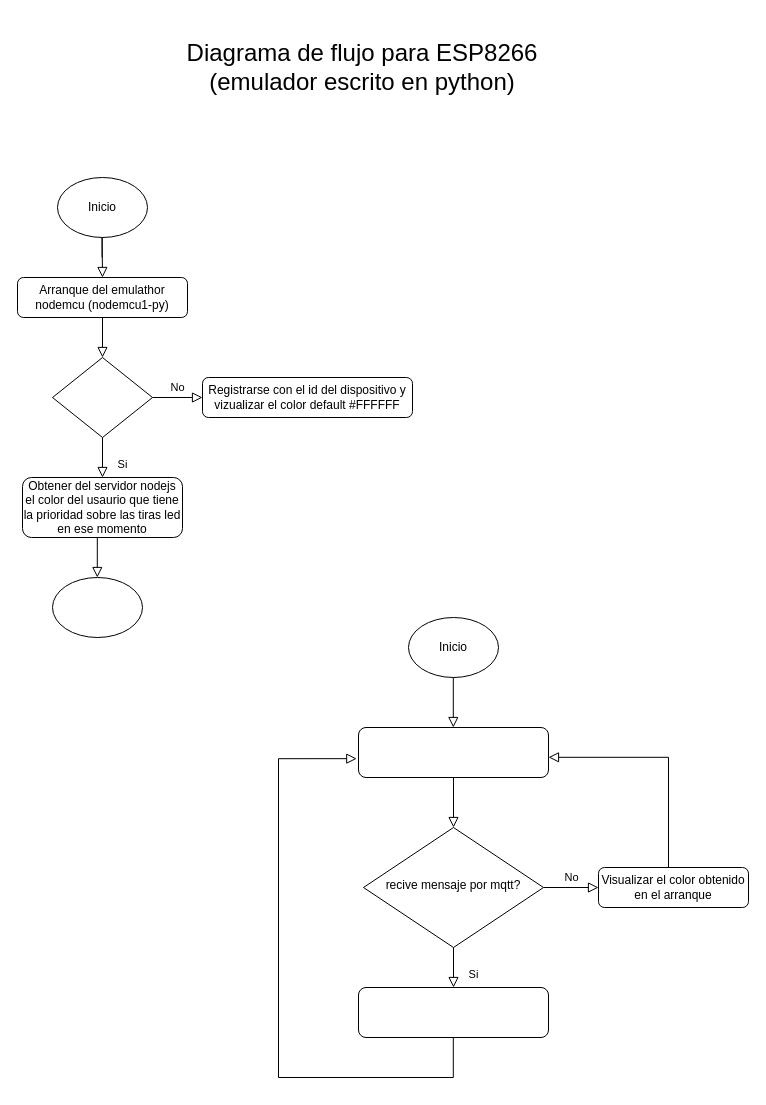
Image size: 766x1105. Some labels were removed from this diagram. Here are the shapes that lost their labels. From the top down, the centre of each, then its label:
At (x=102, y=397): "Ya esta registrado?".
At (x=97, y=607): "fin".
At (x=453, y=752): "Durante la ejecucion del emulathor nodemcu (nodemcu1-py)".
At (x=453, y=1012): "Vizualizar el color especificado en el mensaje recibido".
